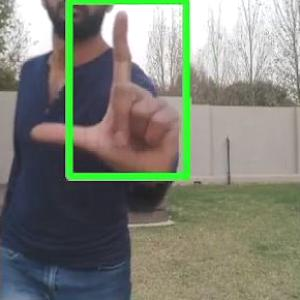land_hand: (29, 7, 183, 179)
